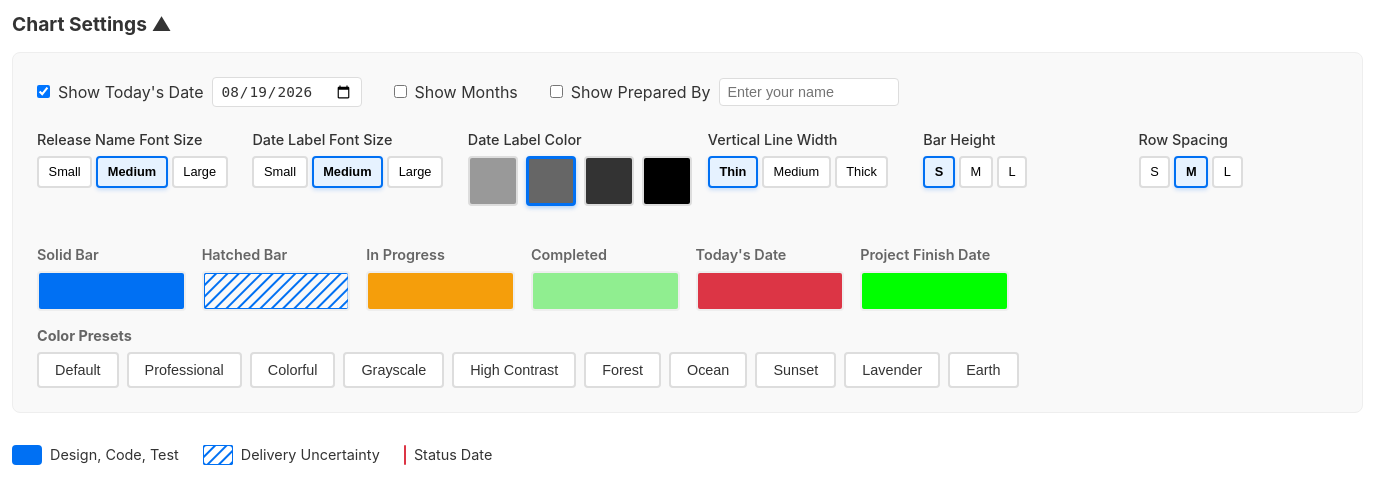
Test: status date — settings ↔ context ↔ storage ↔ legend (v0.28.0) › clearing the input removes the field from storage and restores the wording
The image size is (1378, 482).
Expected: the text "Status Date" is shown, [414,446,492,464]
Clear the date field named "Status date". click: (286, 92)
box: [212,77,362,107]
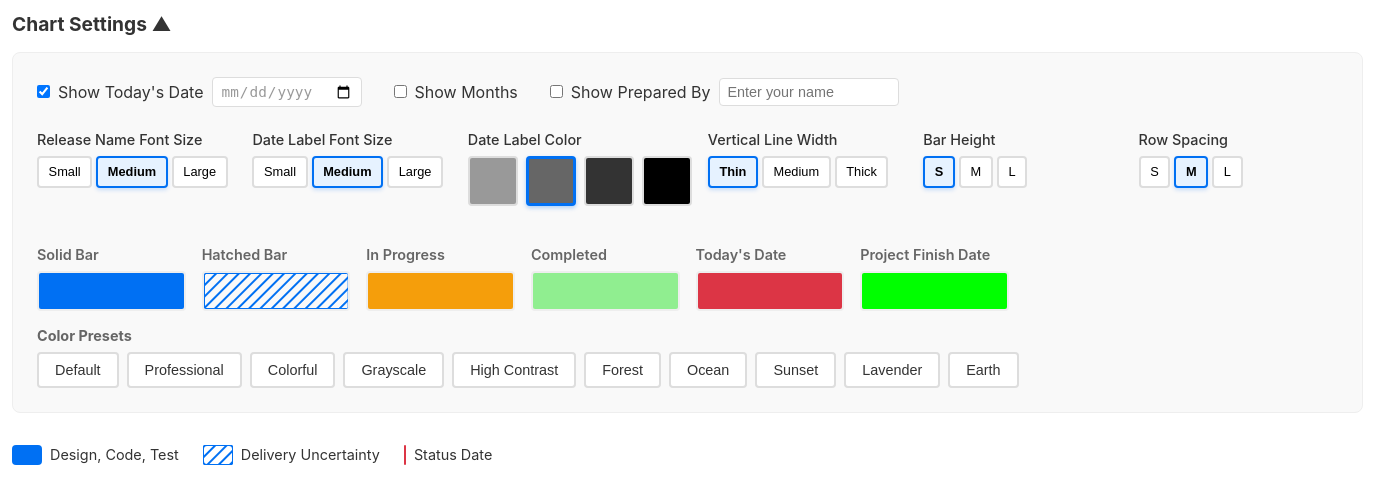
Leave the date field named "Status date", box [212,77,362,107]
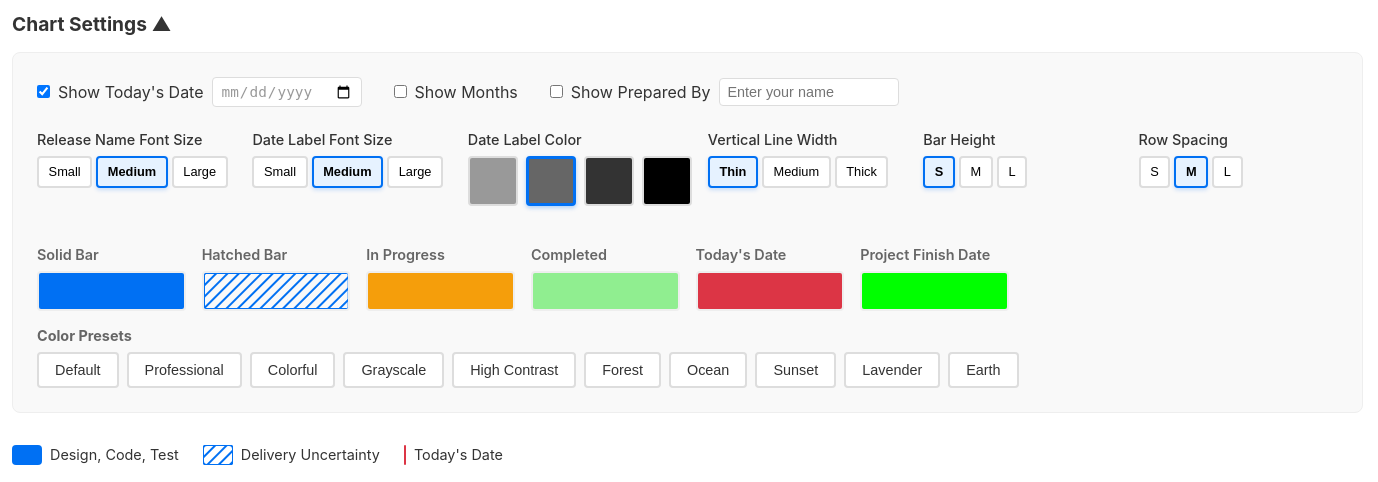
Result: the text "Today's Date" is shown at [414,446,503,464]
Result: the text "Status Date" is gone
